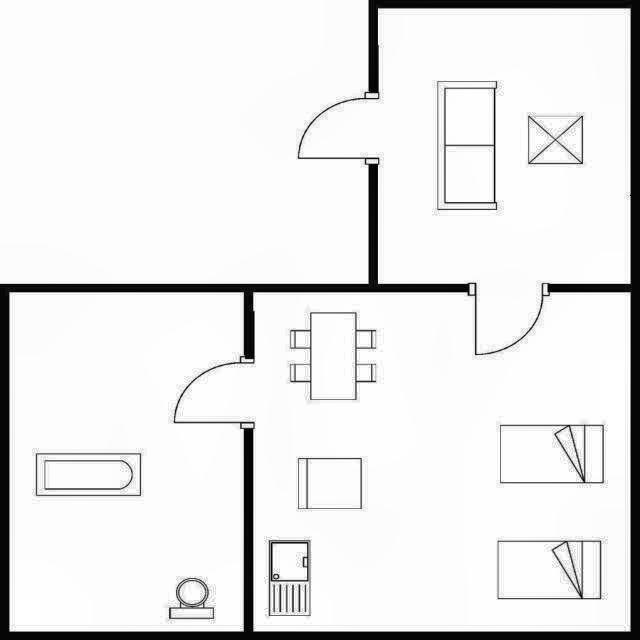room: (253, 292, 631, 632), (9, 292, 244, 632), (378, 8, 631, 284)
